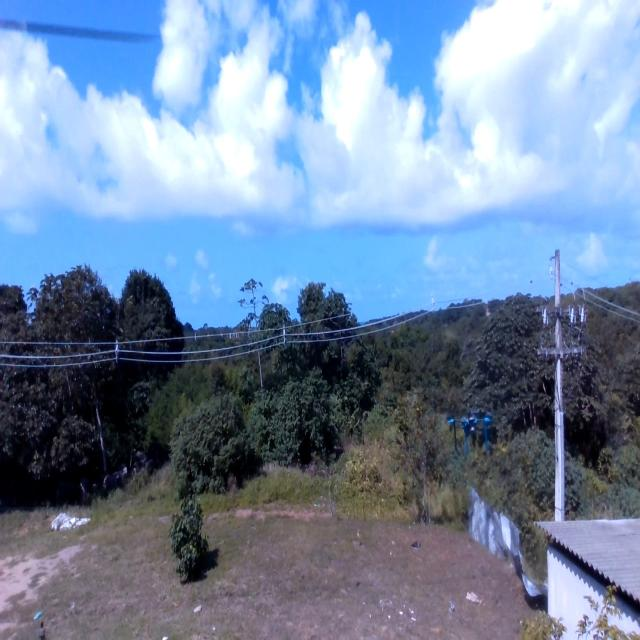-uav-: (446, 404, 494, 456)
